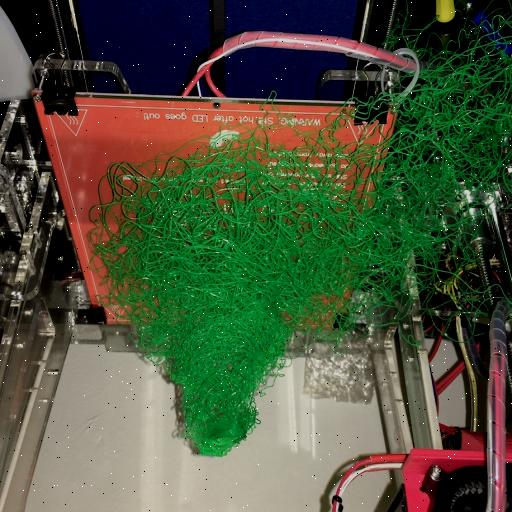spaghetti: (86, 34, 512, 454)
